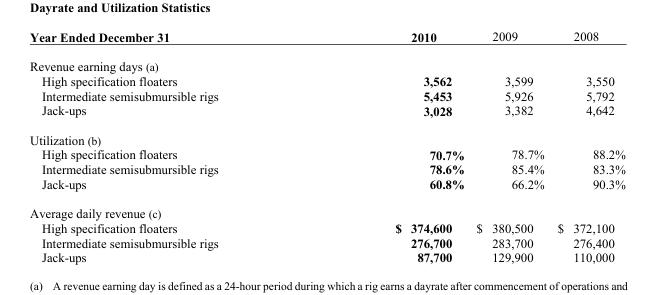table: (28, 29, 624, 264)
table column: (28, 29, 306, 264), (306, 29, 469, 264), (469, 29, 550, 264), (550, 29, 624, 264)
table column header: (28, 29, 624, 51)
table projected row header: (28, 51, 624, 73), (28, 124, 624, 146), (28, 198, 624, 220)
table row: (28, 29, 624, 51), (28, 51, 624, 73), (28, 102, 624, 124), (28, 124, 624, 146), (28, 176, 624, 198), (28, 198, 624, 220), (28, 73, 624, 88), (28, 146, 624, 161), (28, 161, 624, 176), (28, 220, 624, 235), (28, 249, 624, 264), (28, 88, 624, 102), (28, 235, 624, 249)
